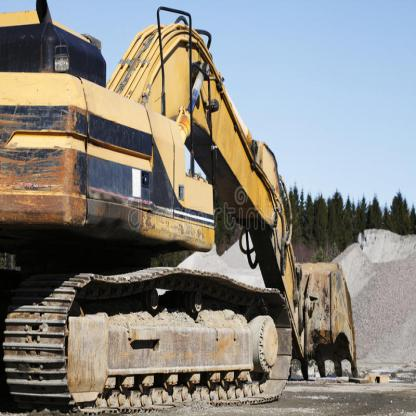excavator: (0, 0, 369, 414)
